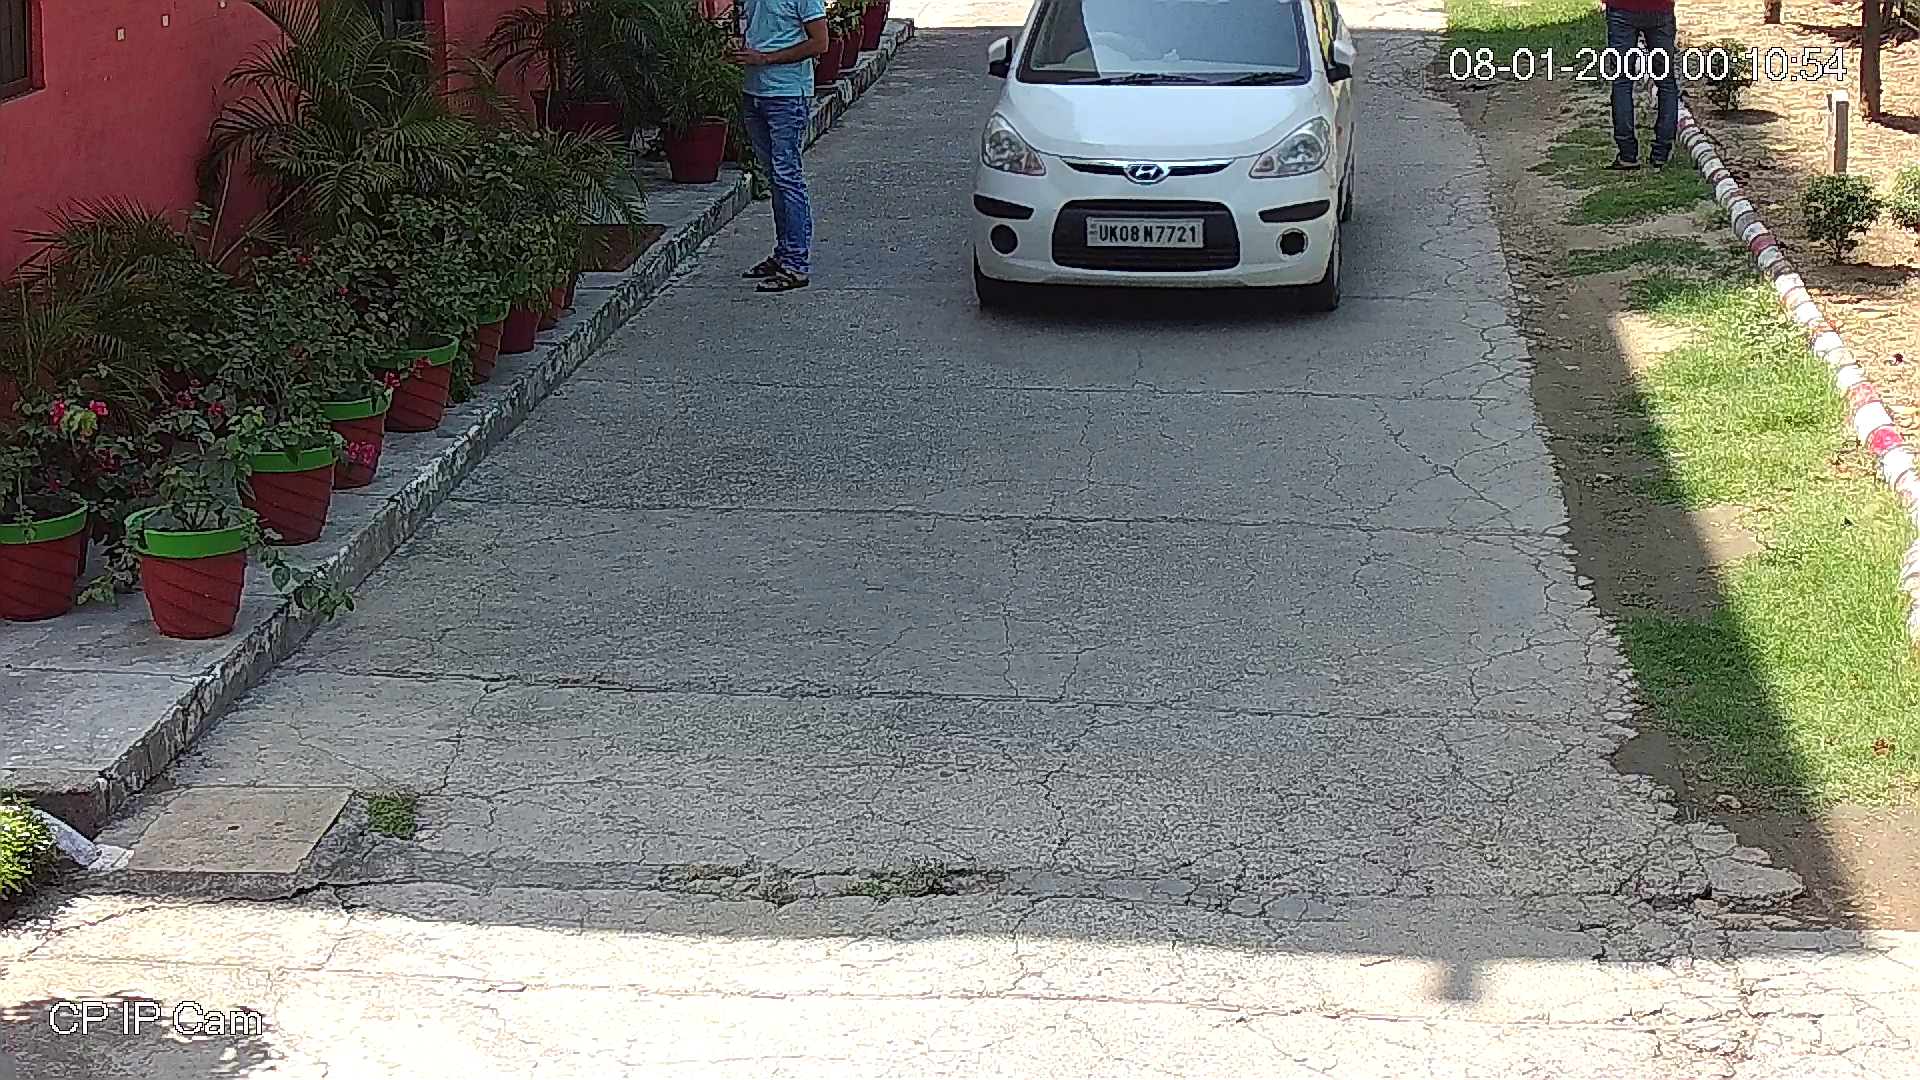plate: (1082, 215, 1206, 249)
